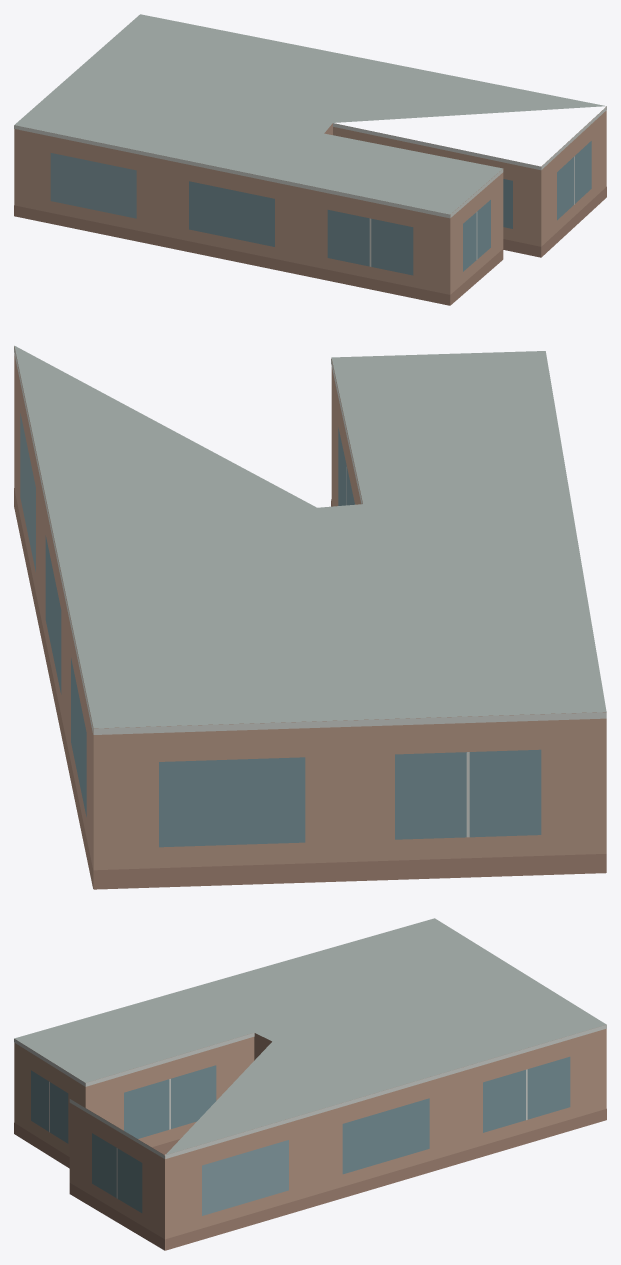
The model's file is survey-upis-32995025.glb.
3 renders of one model, top to bottom at view 1: azimuth 30°, elevation 25°; view 2: azimuth 150°, elevation 25°; view 3: azimuth 270°, elevation 25°, orthographic. The views are drawn at different scales.
Visible parts, largest first — view 1: survey-upis-32995025.tmp; view 2: survey-upis-32995025.tmp; view 3: survey-upis-32995025.tmp.
Part boxes in pixels (x1=…): survey-upis-32995025.tmp: x1=14, y1=14, x2=606, y2=305; survey-upis-32995025.tmp: x1=14, y1=345, x2=606, y2=889; survey-upis-32995025.tmp: x1=14, y1=918, x2=606, y2=1250.
Size of the model in its own units: 16.27 by 3.05 by 17.18.
